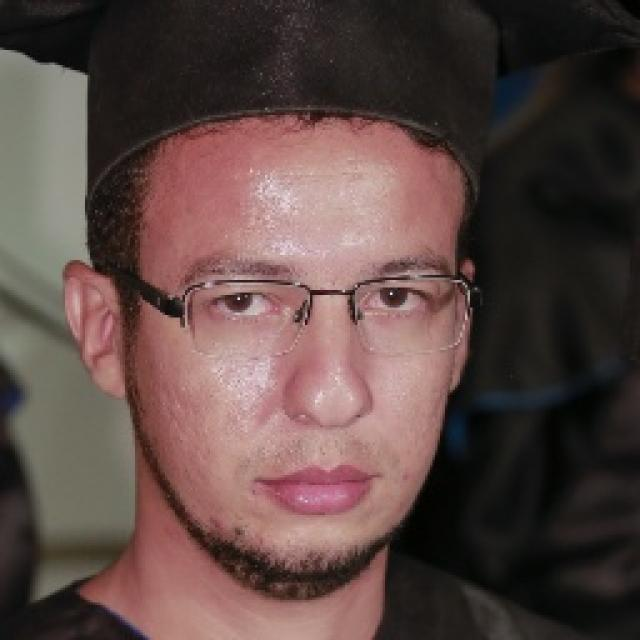earlobe: (62, 261, 129, 401), (449, 257, 478, 395)
